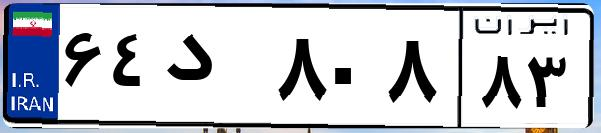0: (330, 28, 385, 110)
3: (525, 38, 570, 115)
4: (110, 28, 158, 98)
6: (57, 26, 110, 100)
8: (270, 28, 330, 110), (385, 28, 445, 110), (475, 38, 525, 113)
د: (158, 20, 270, 120)
